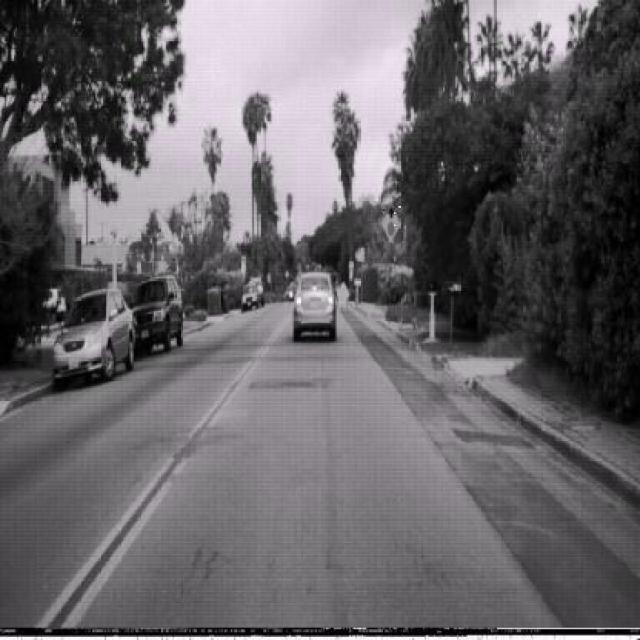stopAhead: (380, 202, 401, 245)
